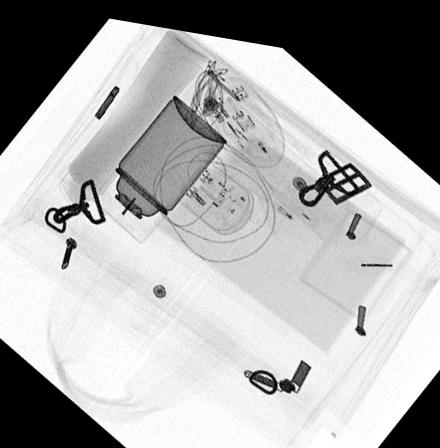Sprayer: (87, 86, 229, 240)
